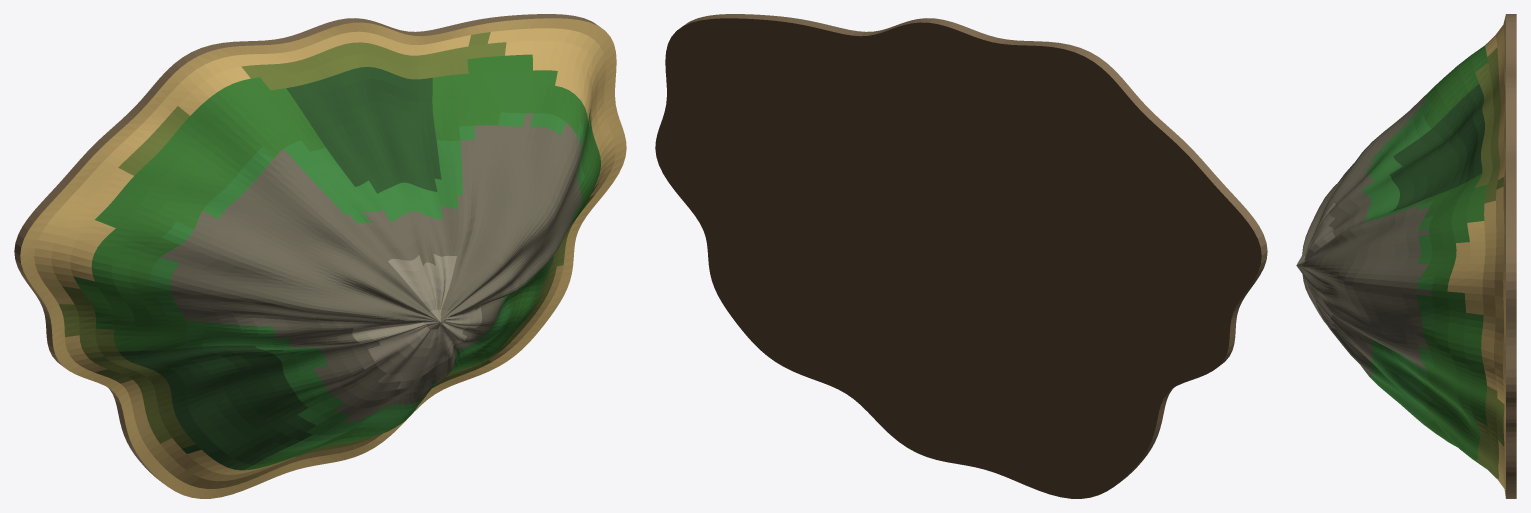
File: clean_single_mountain_probe_detailed.obj
3 renders of one model, left to right at view 1: azimuth 30°, elevation 25°; view 2: azimuth 150°, elevation 25°; view 3: azimuth 270°, elevation 25°, orthographic. The views are drawn at different scales.
Visible parts, largest first — view 1: clean_single_mountain_probe_detailed; view 2: clean_single_mountain_probe_detailed; view 3: clean_single_mountain_probe_detailed.
Part boxes in pixels (box(x1,y1,x2,y2)): clean_single_mountain_probe_detailed: box(14, 14, 626, 498); clean_single_mountain_probe_detailed: box(655, 14, 1267, 498); clean_single_mountain_probe_detailed: box(1296, 14, 1516, 498).
Size of the model in its own units: 139 by 98.12 by 48.
